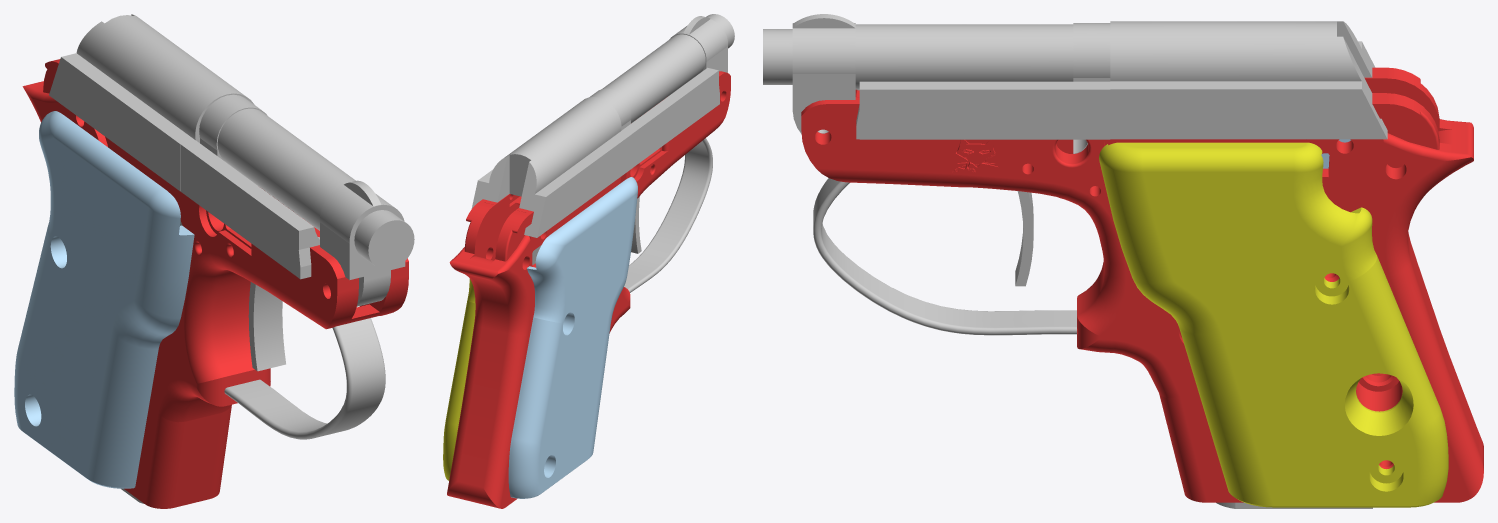
The model's file is 21a_sample_003.gltf.
3 views of the same model, side by side, from view 1: azimuth 30°, elevation 25°; view 2: azimuth 150°, elevation 25°; view 3: azimuth 270°, elevation 25° (orthographic). The views are drawn at different scales.
Visible parts, largest first — view 1: Body1.005, Body1.003, Body1, Body1.001, Body1.007, Body1.004, Body2; view 2: Body1.005, Body1.003, Body1, Body1.001, Body1.007, Body1.006, Body1.004; view 3: Body1.006, Body1.003, Body1, Body1.001, Body1.007, Body1.004.
Boxes of the visible parts, left/top/right/bottom form: Body1.005: left=14, top=111, right=194, bottom=488; Body1.003: left=22, top=59, right=408, bottom=508; Body1: left=49, top=14, right=319, bottom=279; Body1.001: left=199, top=94, right=414, bottom=306; Body1.007: left=224, top=318, right=385, bottom=439; Body1.004: left=248, top=282, right=285, bottom=371; Body2: left=344, top=180, right=381, bottom=206; Body1.005: left=508, top=177, right=637, bottom=498; Body1.003: left=447, top=71, right=730, bottom=508; Body1: left=471, top=67, right=719, bottom=237; Body1.001: left=589, top=14, right=734, bottom=130; Body1.007: left=624, top=138, right=712, bottom=292; Body1.006: left=443, top=279, right=475, bottom=480; Body1.004: left=631, top=196, right=641, bottom=253; Body1.006: left=1099, top=142, right=1448, bottom=507; Body1.003: left=801, top=67, right=1483, bottom=502; Body1: left=856, top=21, right=1387, bottom=139; Body1.001: left=763, top=23, right=1110, bottom=153; Body1.007: left=813, top=178, right=1076, bottom=335; Body1.004: left=1015, top=191, right=1033, bottom=286.
Size of the model in its own units: 0.0279 by 0.0947 by 0.1294.
